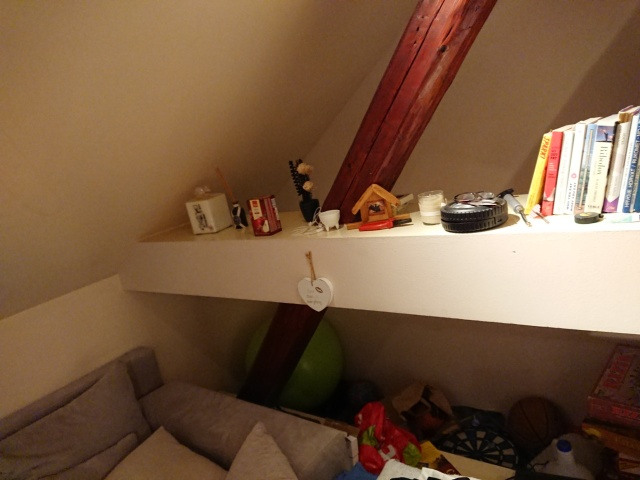Franck Apple Cinnamon Tea 60g: (243, 191, 285, 238)
